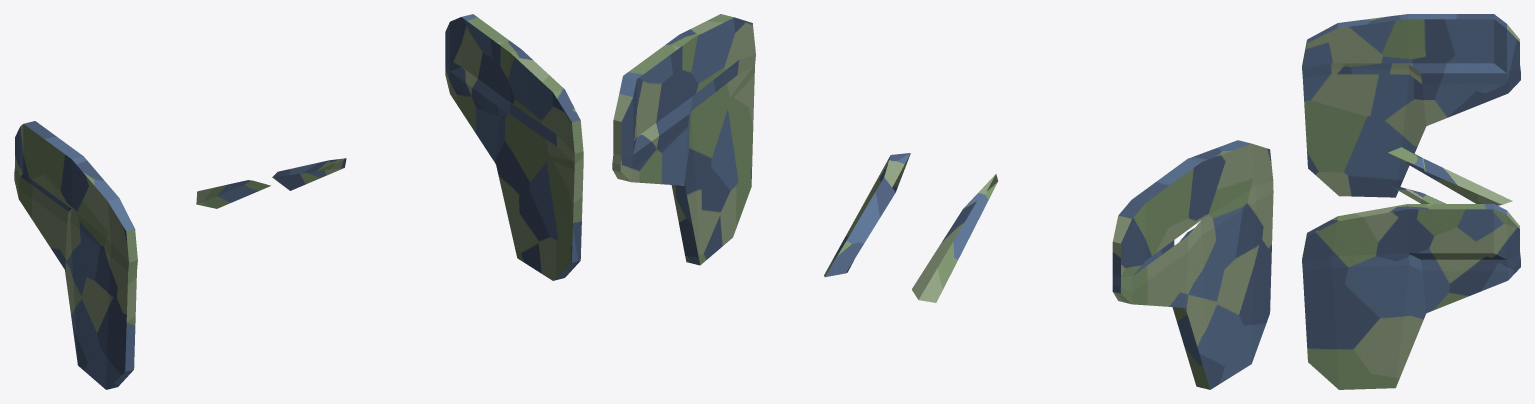
The model's file is aleron.obj.
The picture shows the model from 3 angles, left to right: view 1: azimuth 30°, elevation 25°; view 2: azimuth 150°, elevation 25°; view 3: azimuth 270°, elevation 25°; orthographic projection. The views are drawn at different scales.
Parts seen in each view (by area): view 1: aleron; view 2: aleron; view 3: aleron.
Part boxes in pixels (x1=…): aleron: x1=14, y1=14, x2=583, y2=389; aleron: x1=612, y1=14, x2=1273, y2=389; aleron: x1=1302, y1=14, x2=1520, y2=389.
Bounding box in the file's own units: 1.84 × 0.7709 × 0.8543.
Materials: 1 (1 with a texture image).
